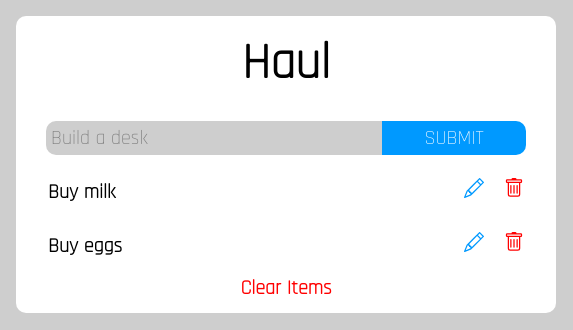
Scenario: HaulPage › behavior › removing an item › should only remove the targeted item when multiple items exist
Click the button named "Remove Buy milk" at x=504, y=188, box x1=484 y1=178 x2=524 y2=198
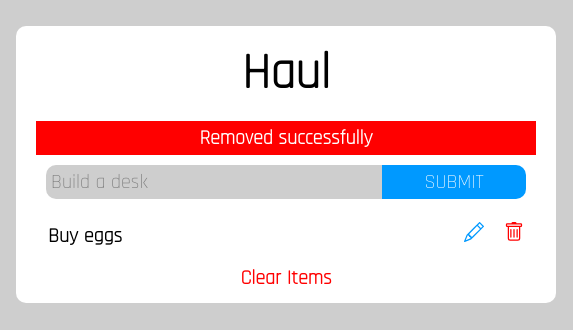
Check: the heading "Buy eggs" is shown, box x1=48 y1=220 x2=122 y2=250
Check: the heading "Buy milk" is gone
